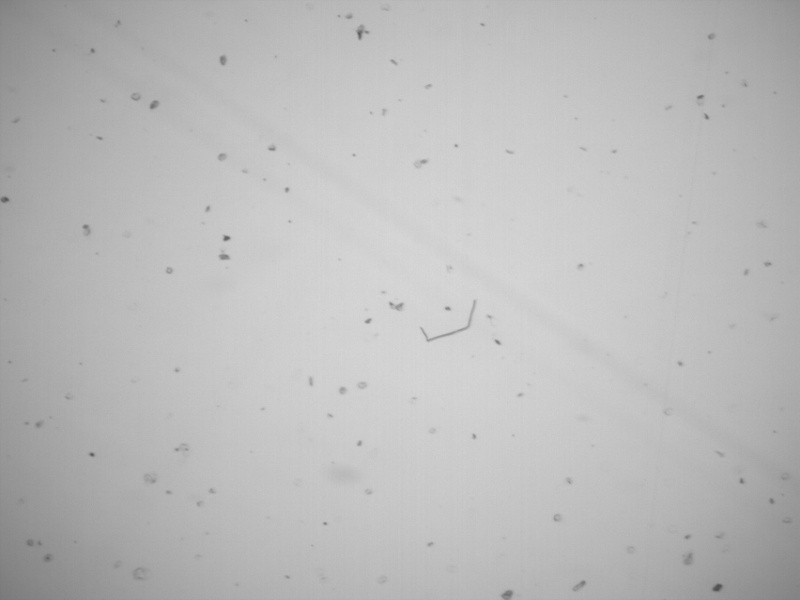fiber: (415, 295, 479, 342)
